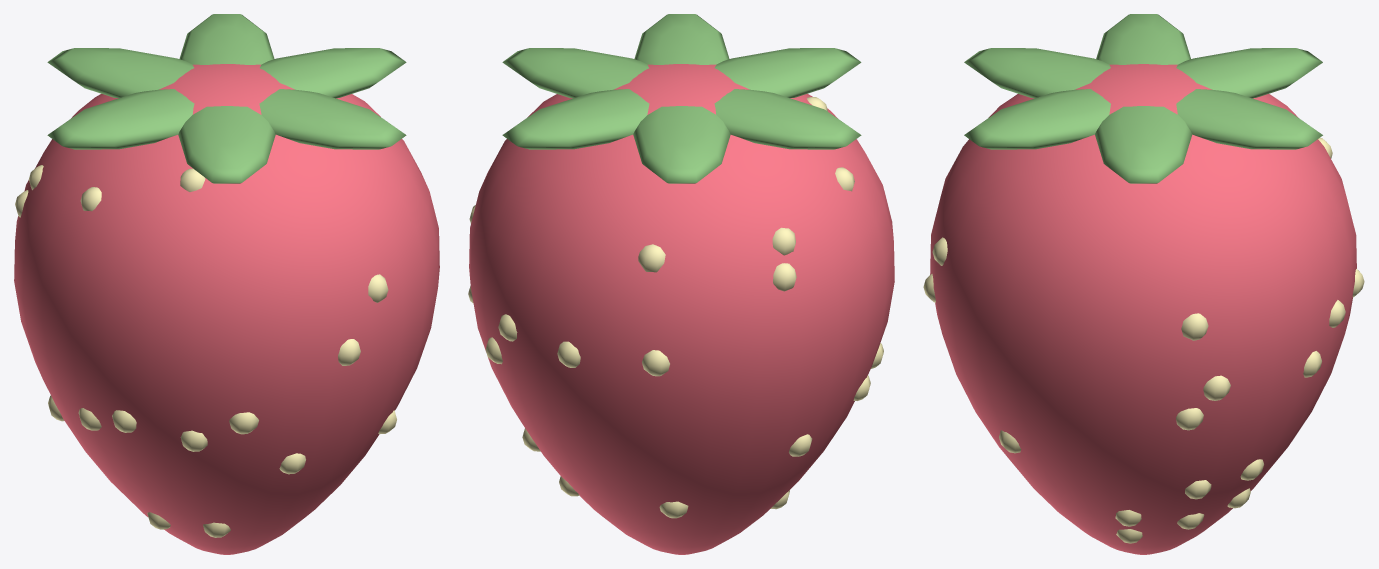
File: Strawberry.glb
The picture shows the model from 3 angles, left to right: view 1: azimuth 30°, elevation 25°; view 2: azimuth 150°, elevation 25°; view 3: azimuth 270°, elevation 25°; orthographic projection.
Parts seen in each view (by area): view 1: Strawberry; view 2: Strawberry; view 3: Strawberry.
Boxes of the visible parts, x1,y1,x2,y2 form: Strawberry: [14, 14, 439, 554]; Strawberry: [468, 14, 894, 554]; Strawberry: [923, 14, 1364, 554].
Bounding box in the file's own units: 0.6272 × 0.76 × 0.6463.
